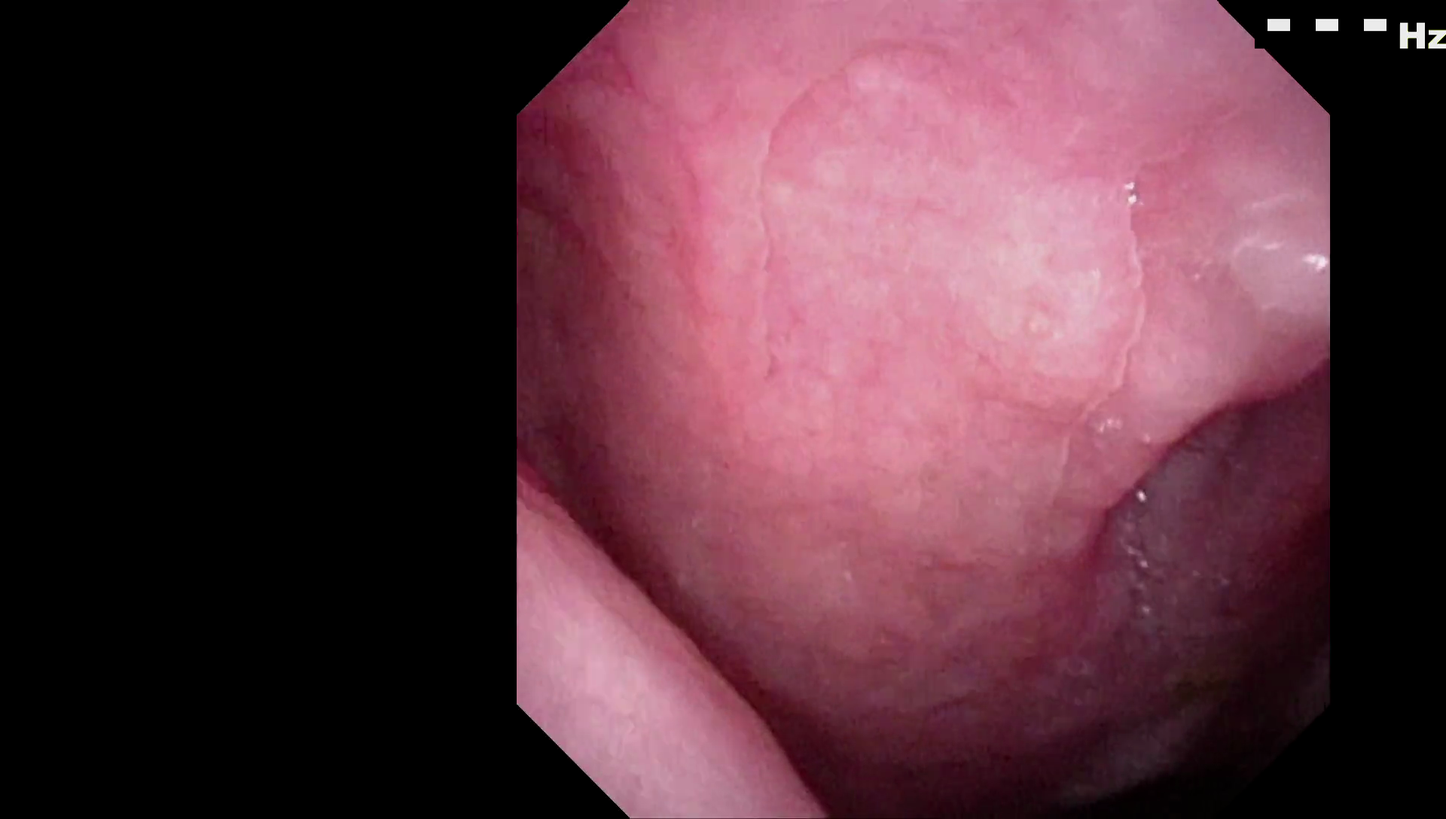close_wall: (649, 56, 1253, 464), (530, 495, 798, 818)
next: (1068, 635, 1334, 815)
